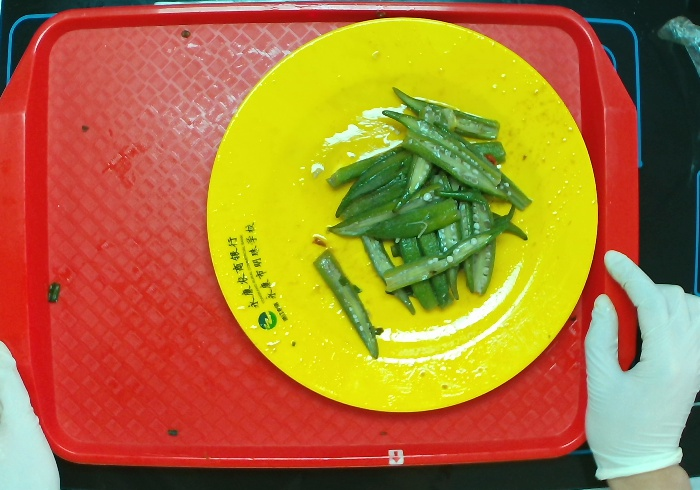YKMZ-Huang_Se_Mian_Pan: (184, 7, 605, 415)
